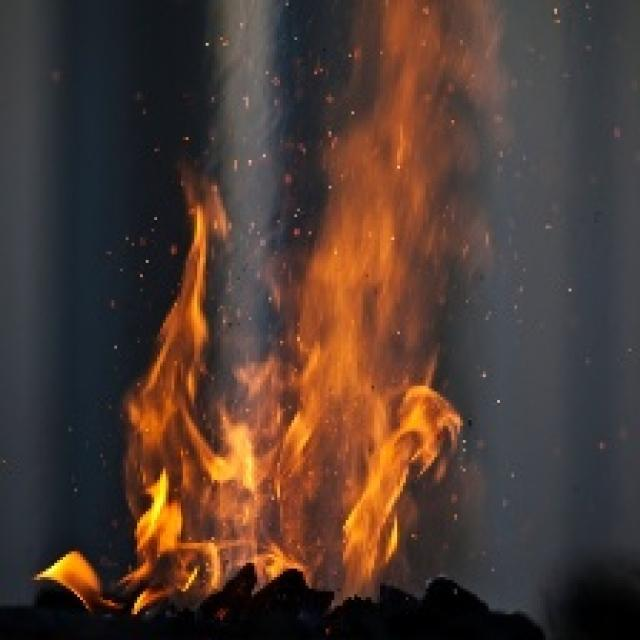Fire: (34, 192, 464, 600), (319, 0, 476, 226)
